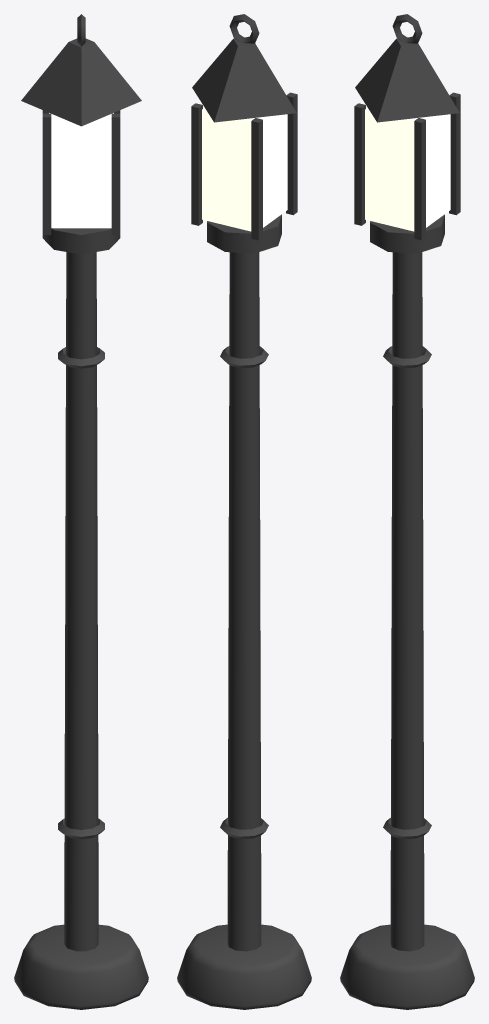
Rendered from lampiao.glb.
The picture shows the model from 3 angles, left to right: view 1: azimuth 90°, elevation 25°; view 2: azimuth 150°, elevation 25°; view 3: azimuth 330°, elevation 25°; orthographic projection.
Visible parts, largest first — view 1: Lampiao; view 2: Lampiao; view 3: Lampiao.
Boxes of the visible parts, box(x1,y1,x2,y2) form: Lampiao: box(14, 14, 148, 1009); Lampiao: box(177, 14, 311, 1009); Lampiao: box(340, 14, 474, 1009).
Bounding box in the file's own units: 0.3114 × 2.47 × 0.3114.
